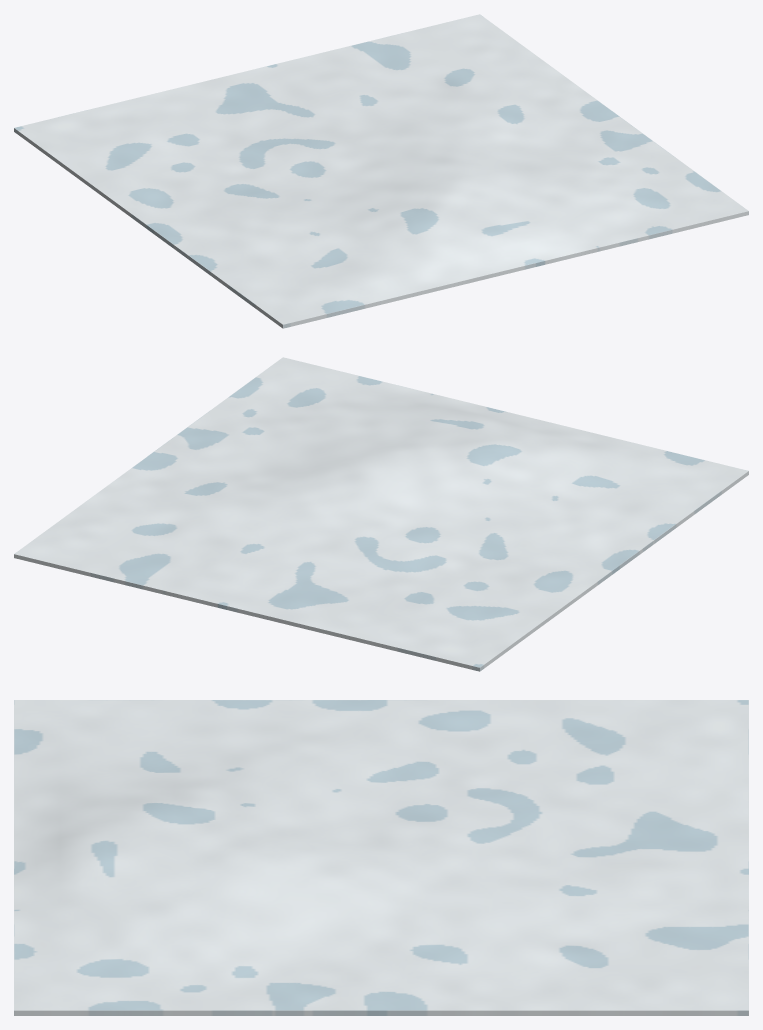
Rendered from Snow_Flat_05.obj.
The picture shows the model from 3 angles, top to bottom: view 1: azimuth 30°, elevation 25°; view 2: azimuth 150°, elevation 25°; view 3: azimuth 270°, elevation 25°; orthographic projection. The views are drawn at different scales.
Size of the model in its own units: 10 by 0.386 by 10.
1 material, 1 textured.
